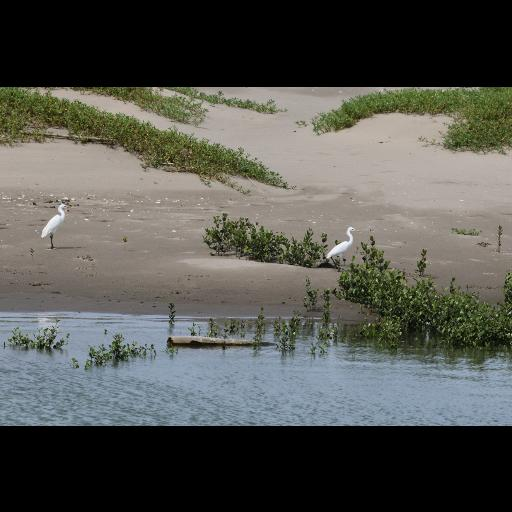chinese_egret: (41, 202, 75, 248), (327, 226, 361, 268)
